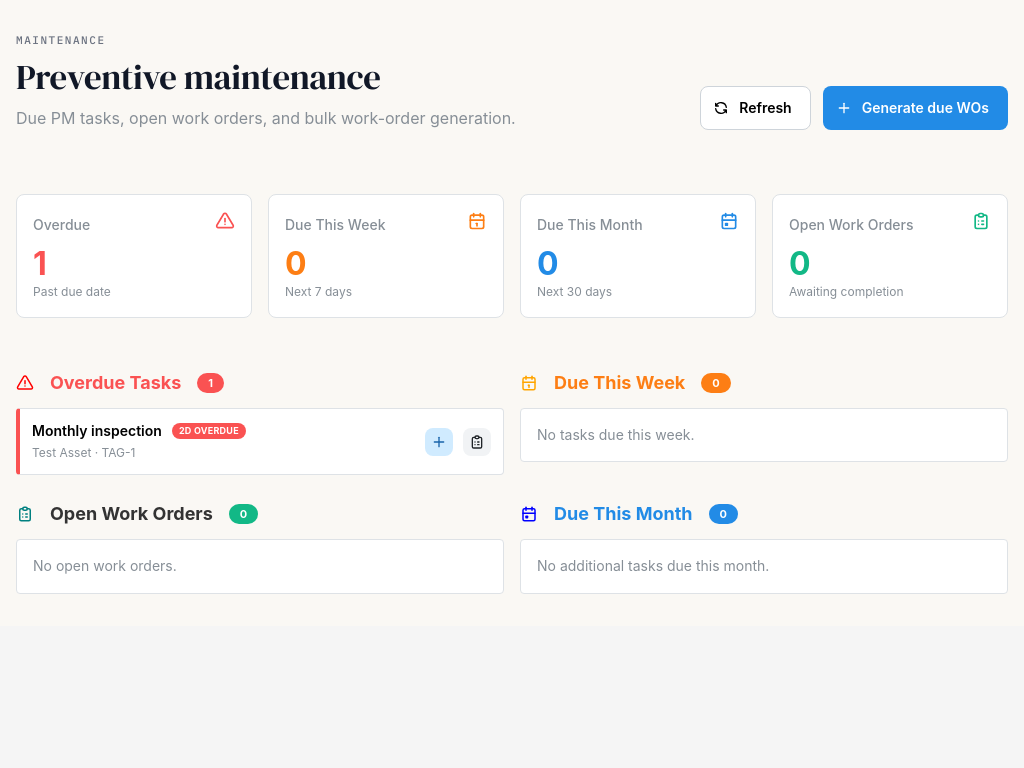
Test: MaintenanceDashboard low-stock flow › renders a pack-counted alert as one comparable pair in its own unit
Click the button named "generate work order" at (439, 442), box [425,428,453,456]
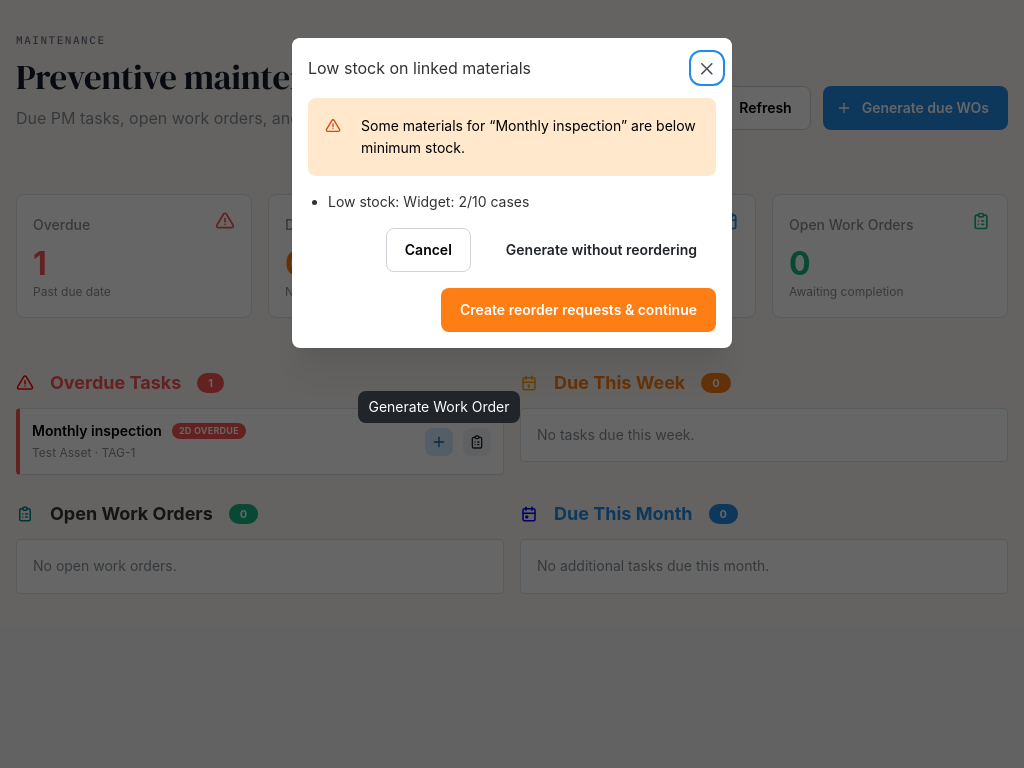
Expected: the list item with test id "low-stock-alert" reads "Low stock: Widget: 2/10 cases", [328,193,529,210]
